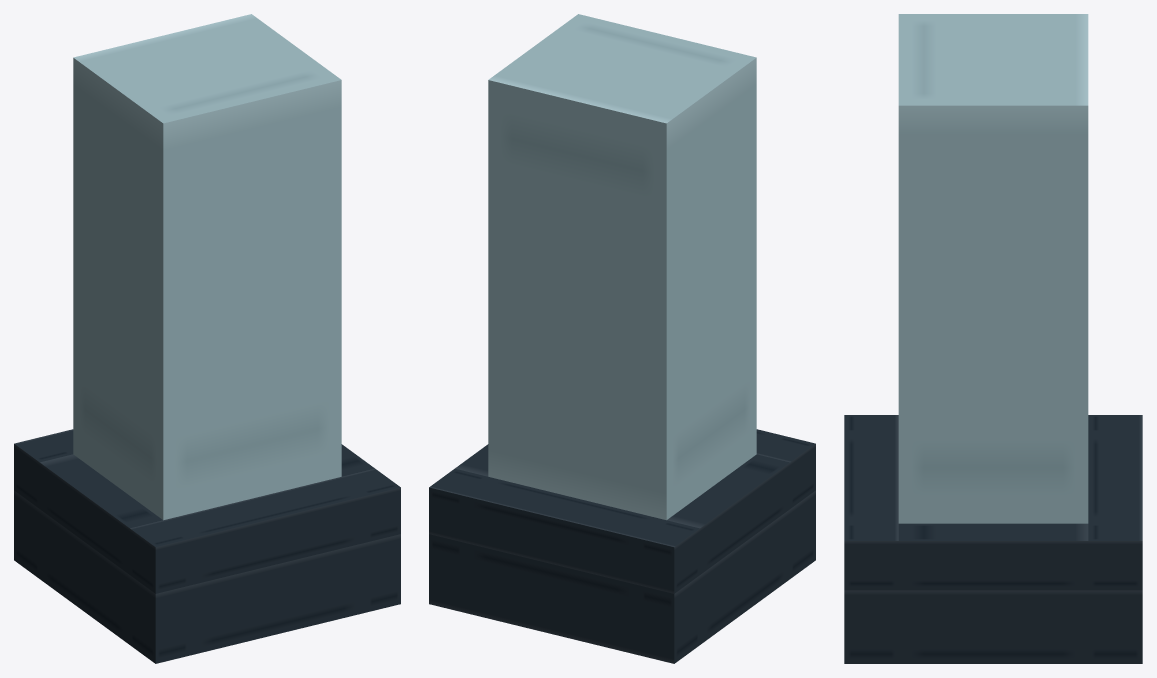
File: sc_arm_finger.obj
3 renders of one model, left to right at view 1: azimuth 30°, elevation 25°; view 2: azimuth 150°, elevation 25°; view 3: azimuth 270°, elevation 25°, orthographic. The views are drawn at different scales.
Bounding box in the file's own units: 1.1 × 2.2 × 1.1.
1 material, 1 textured.
